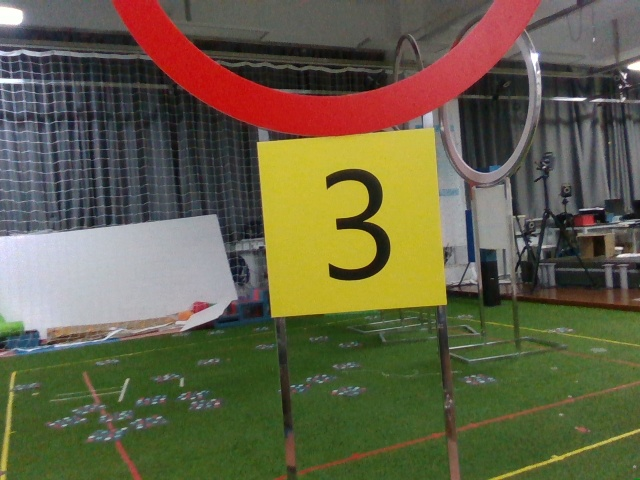target: (273, 138, 432, 304)
